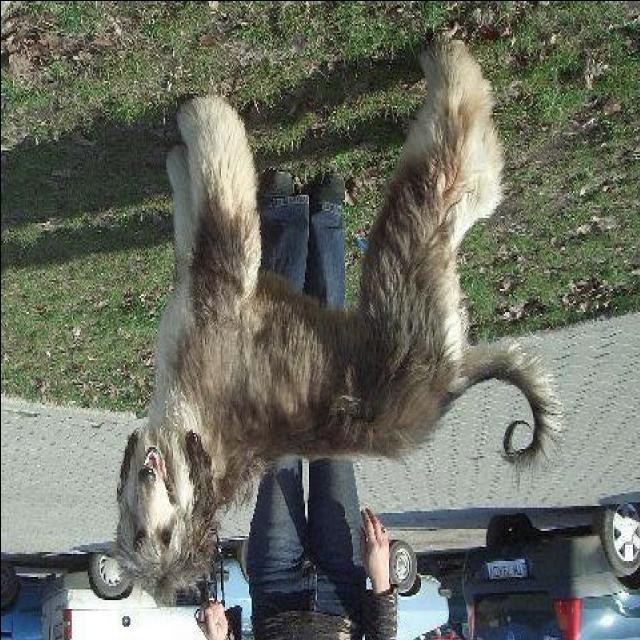afghan_hound: (112, 34, 566, 610)
